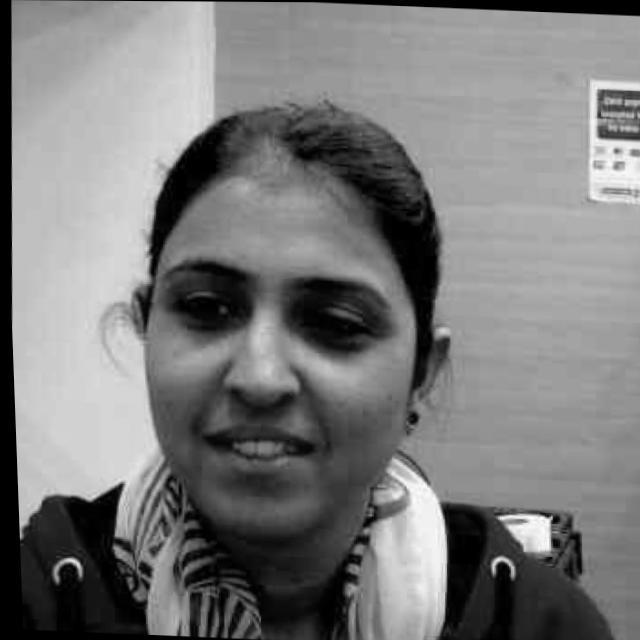puffy_eyes: (175, 293, 249, 342), (288, 318, 374, 358)
